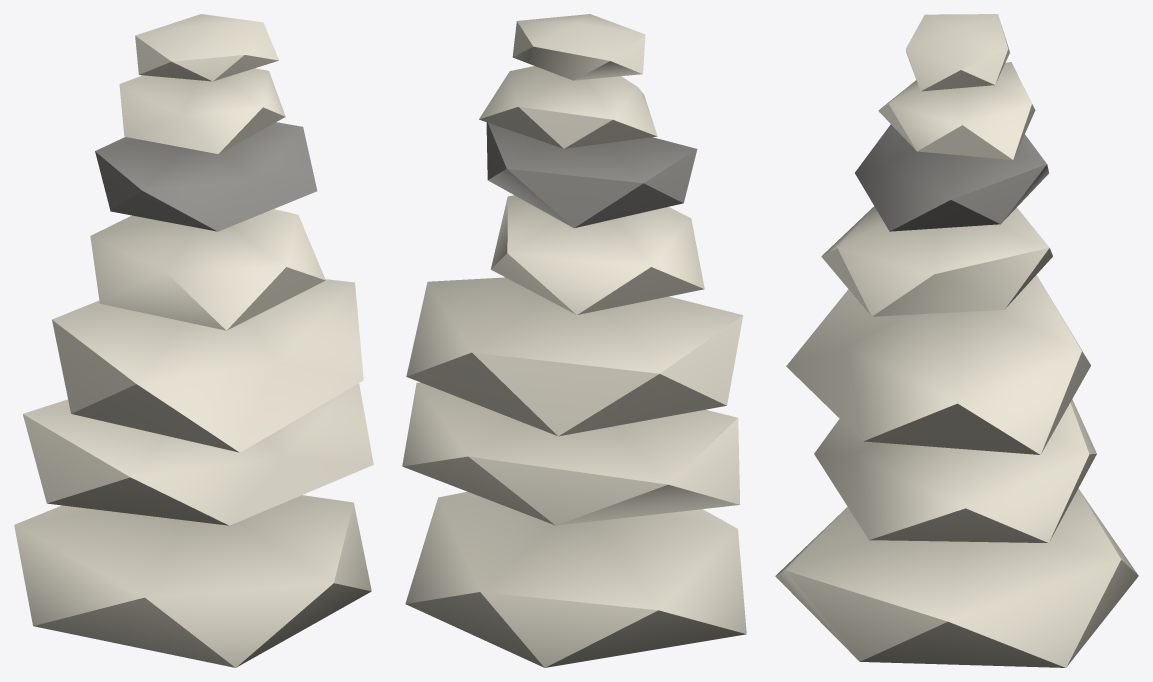
The model's file is cairn_e.glb.
3 views of the same model, side by side, from view 1: azimuth 30°, elevation 25°; view 2: azimuth 150°, elevation 25°; view 3: azimuth 270°, elevation 25° (orthographic). The views are drawn at different scales.
Parts seen in each view (by area): view 1: cairn_e; view 2: cairn_e; view 3: cairn_e.
Boxes of the visible parts, left/top/right/bottom form: cairn_e: left=14, top=14, right=373, bottom=667; cairn_e: left=402, top=14, right=746, bottom=667; cairn_e: left=775, top=14, right=1138, bottom=667.
Bounding box in the file's own units: 1.22 × 2.12 × 1.14.
